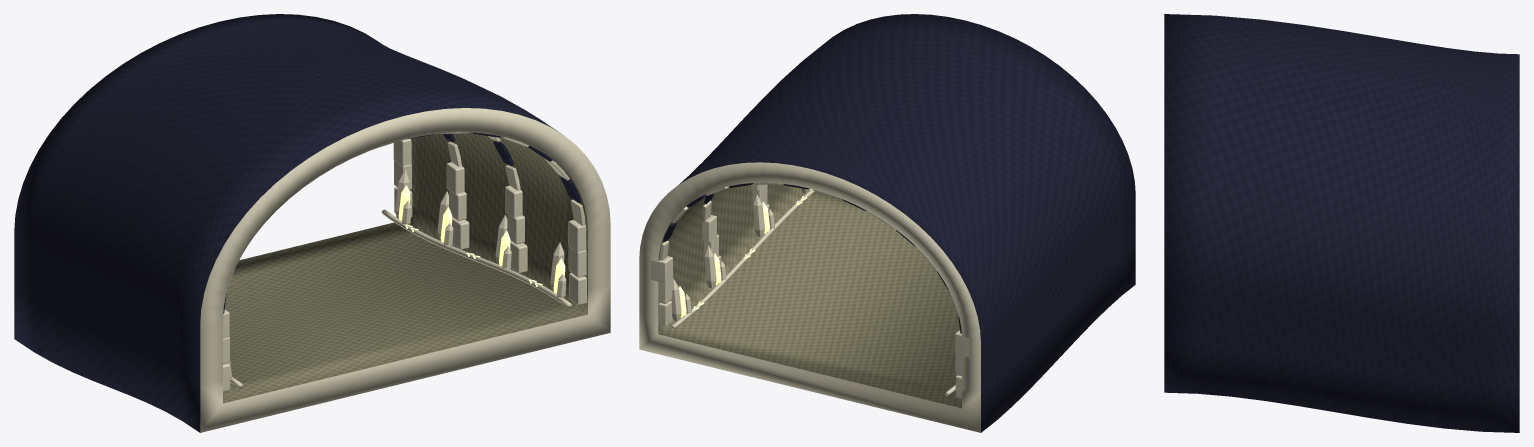
Rendered from grade_down.glb.
3 views of the same model, side by side, from view 1: azimuth 30°, elevation 25°; view 2: azimuth 150°, elevation 25°; view 3: azimuth 270°, elevation 25° (orthographic). The views are drawn at different scales.
Visible parts, largest first — view 1: TunnelGeometry; view 2: TunnelGeometry; view 3: TunnelGeometry.
Part boxes in pixels (<box>): TunnelGeometry: <box>14,14,610,432</box>; TunnelGeometry: <box>639,14,1135,432</box>; TunnelGeometry: <box>1164,14,1519,432</box>.
Size of the model in its own units: 15.3 by 11.02 by 12.
Materials: 4 (2 with a texture image).
